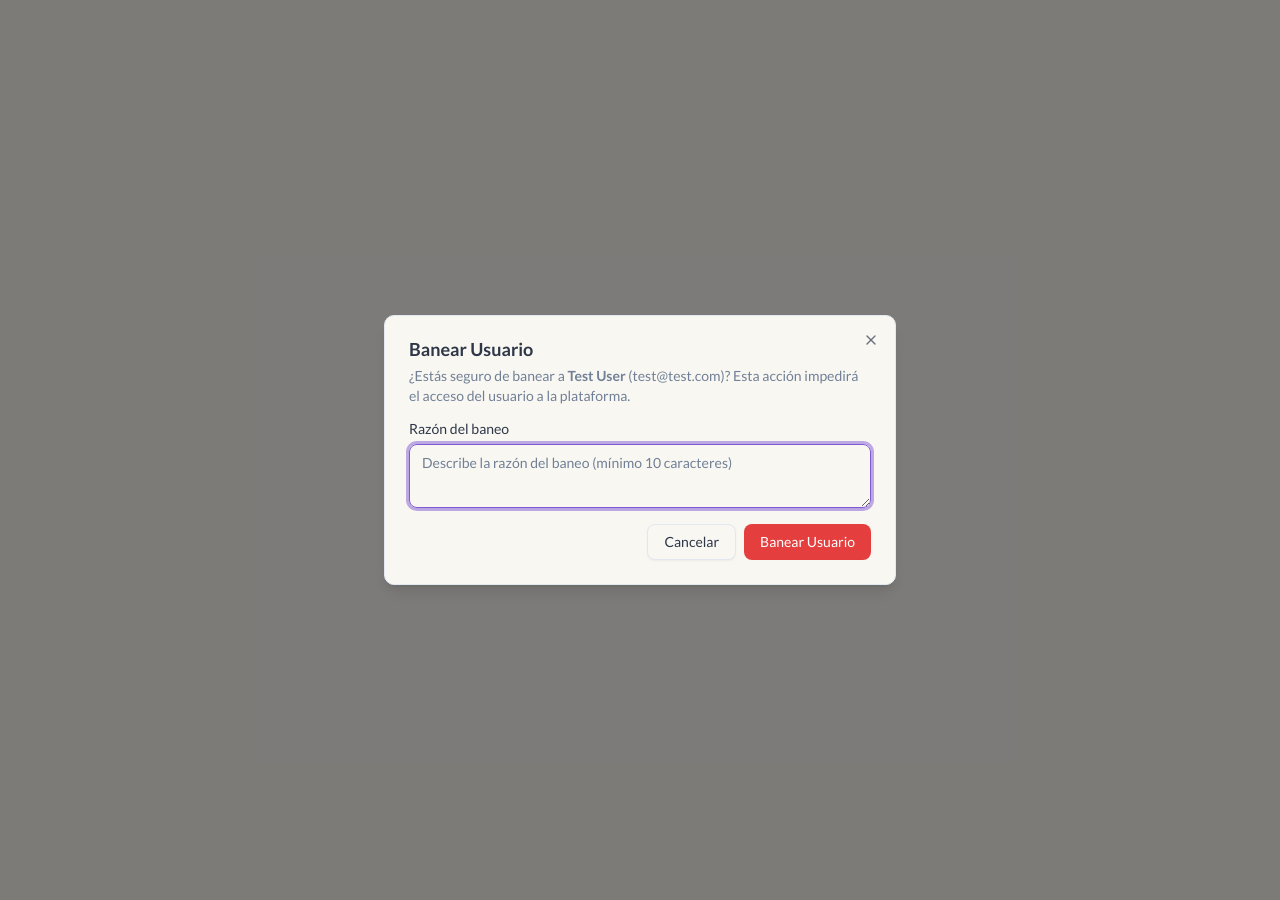
BanUserModal › should require reason field
Click the button "Banear Usuario".
click(808, 542)  # box top-left (744, 524), bottom-right (871, 560)
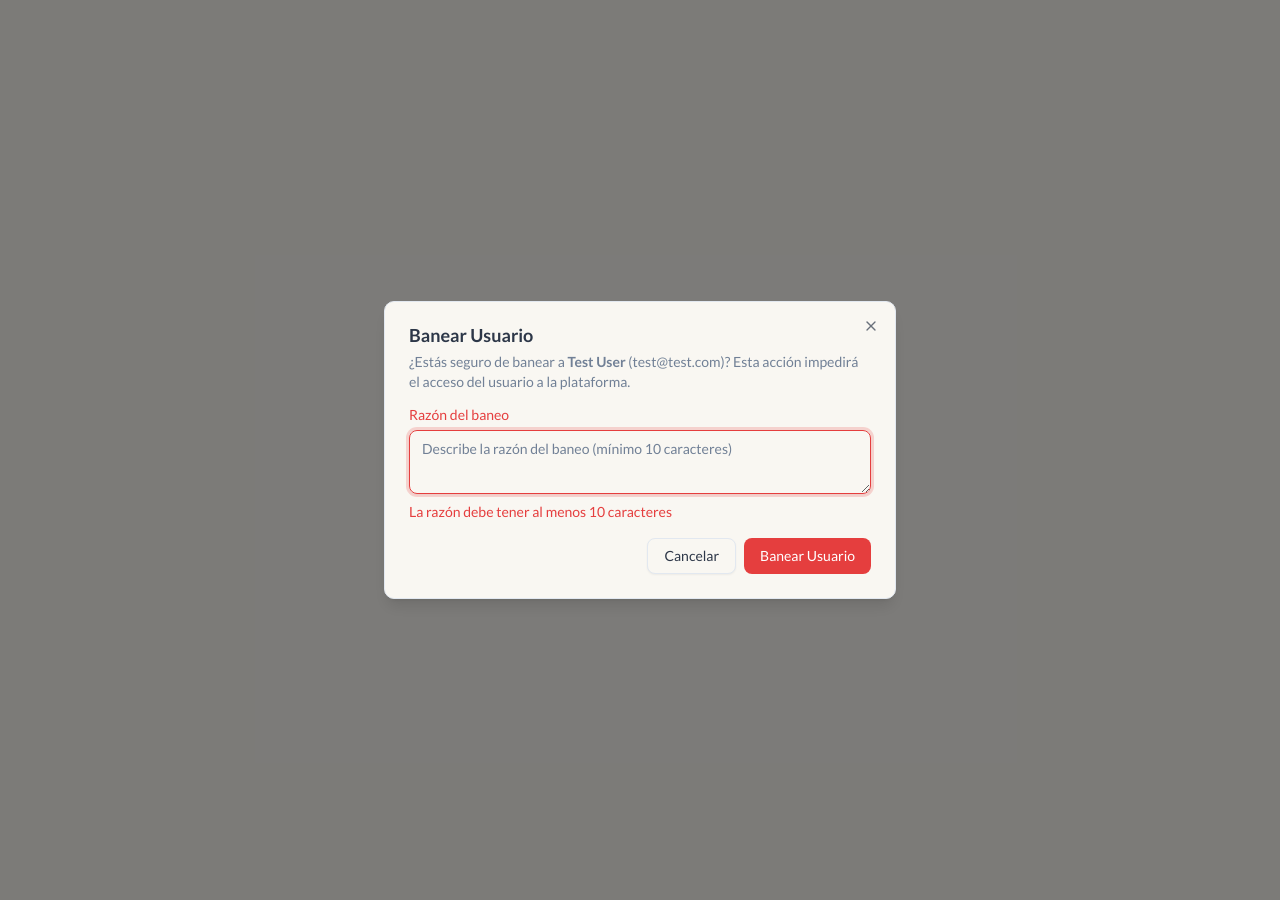
Check: the text "La razón debe tener al menos 10 caracteres" is shown, box top-left (409, 503), bottom-right (672, 520)
